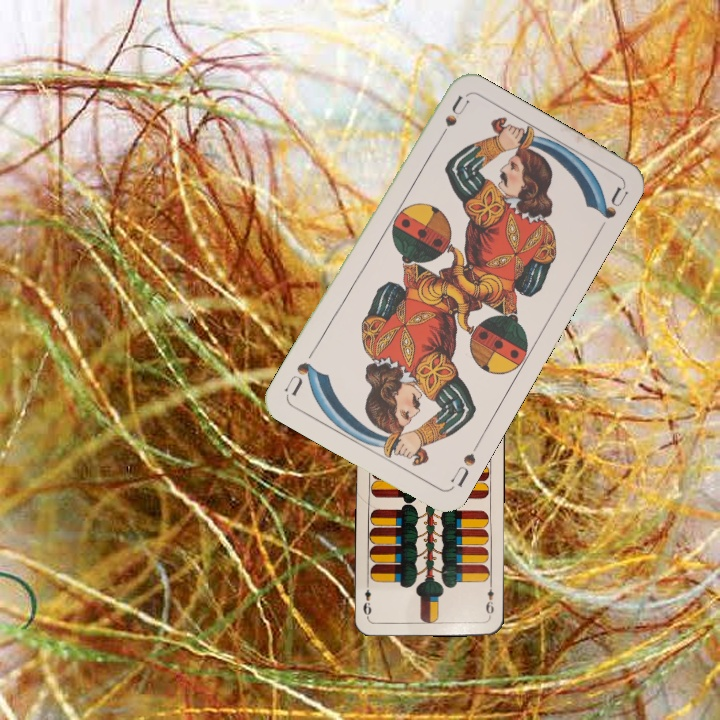E9: (482, 579, 496, 620)
SU: (432, 92, 471, 148), (446, 449, 479, 490)
